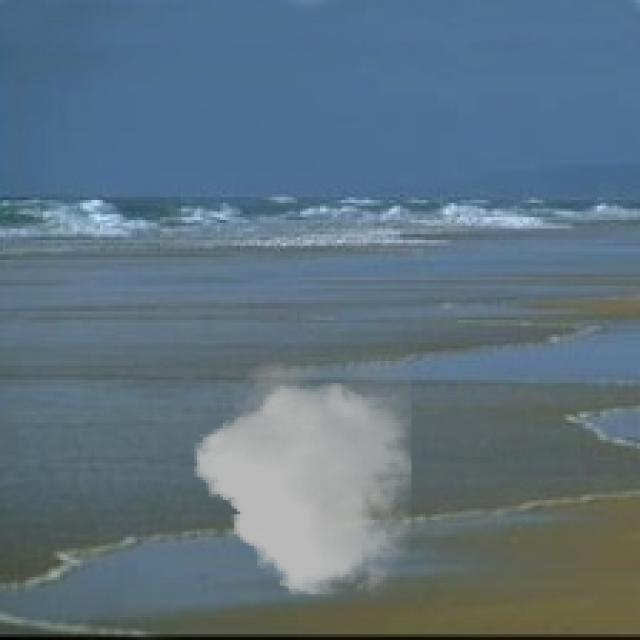Smoke: (195, 354, 412, 600)
